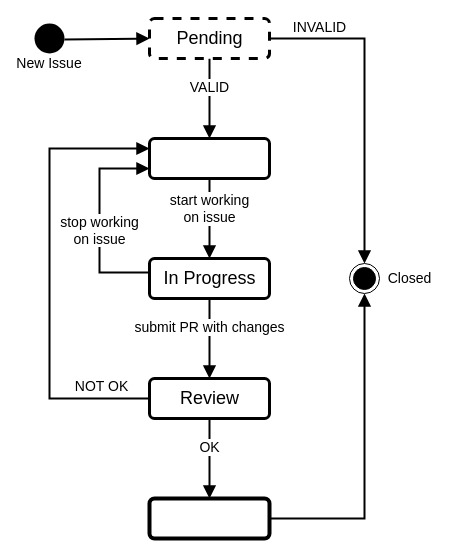
The diagram is 462 pixels wide and 558 high, and some of its shapes have lost their labels. Here are the shapes that lost their labels. From the top down, the centre of each, then its label:
[209,158]: Open
[209,518]: Done
